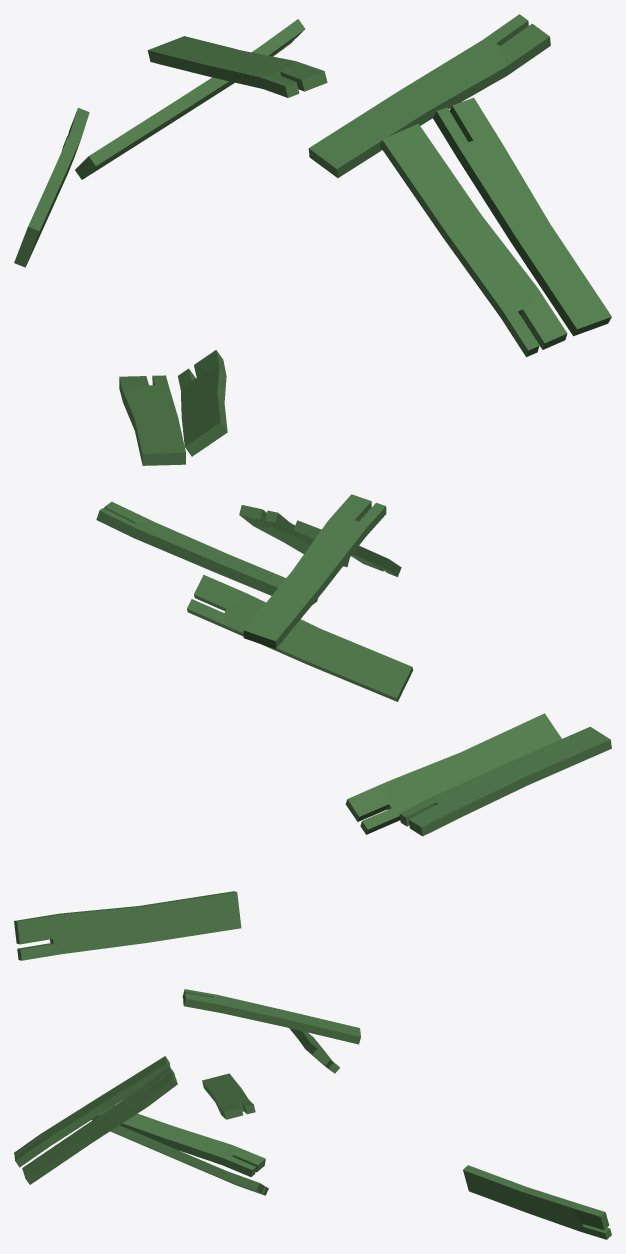
File: Barrel_Break_03E_Lod0.fbx
3 renders of one model, top to bottom at view 1: azimuth 30°, elevation 25°; view 2: azimuth 150°, elevation 25°; view 3: azimuth 270°, elevation 25°, orthographic. The views are drawn at different scales.
Parts seen in each view (by area): view 1: Barrel_Break_03E_Lod0; view 2: Barrel_Break_03E_Lod0; view 3: Barrel_Break_03E_Lod0.
Boxes of the visible parts, box(x1,y1,x2,y2) form: Barrel_Break_03E_Lod0: box(14, 14, 611, 465); Barrel_Break_03E_Lod0: box(14, 494, 611, 960); Barrel_Break_03E_Lod0: box(14, 989, 611, 1239).
Bounding box in the file's own units: 165 × 107 × 260.
